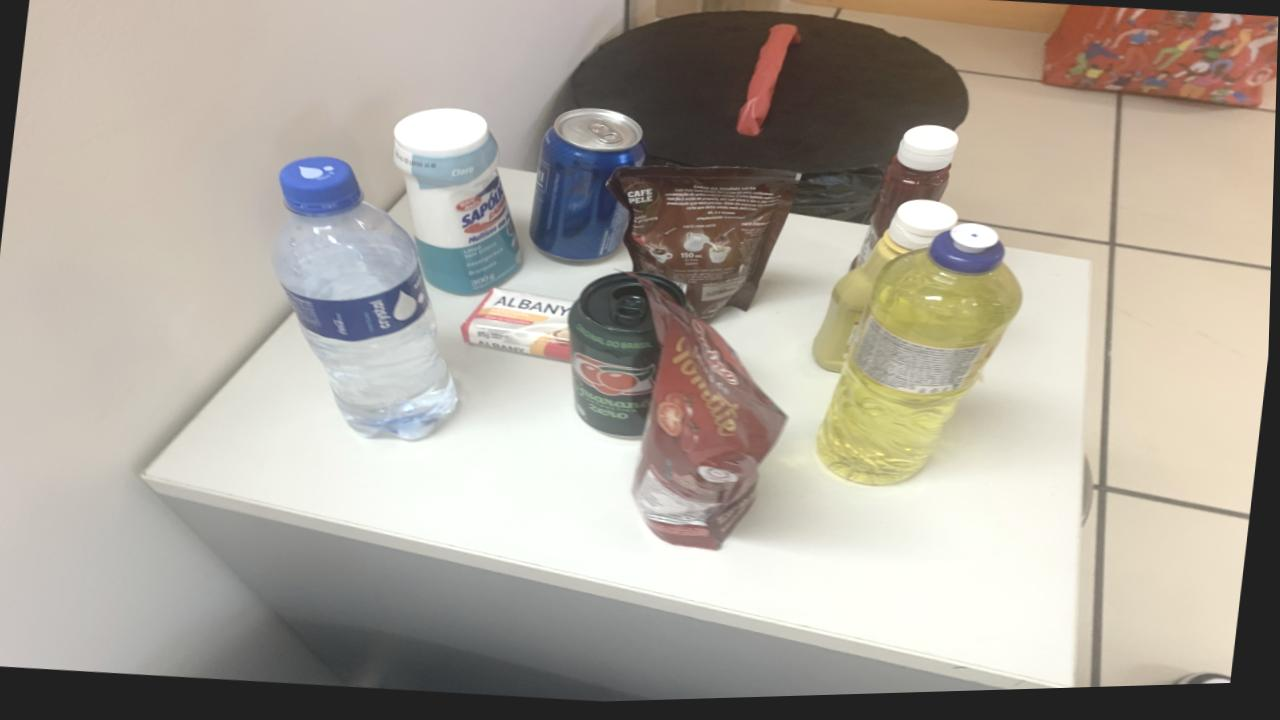Cleaner-Cleanup_Items: (394, 110, 523, 299)
Coffee-Pantry_Items: (609, 170, 797, 323)
Detergent-Cleanup_Items: (818, 229, 1024, 491)
Guarana_Can-Drinks: (569, 277, 663, 442)
Ketchup-Pantry_Items: (872, 130, 959, 240)
Mustard-Pantry_Items: (815, 205, 958, 375)
Soap-Cleanup_Items: (463, 291, 573, 365)
Tonic-Drinks: (531, 112, 646, 265)
Water_Bottle-Drinks: (273, 159, 458, 442)
